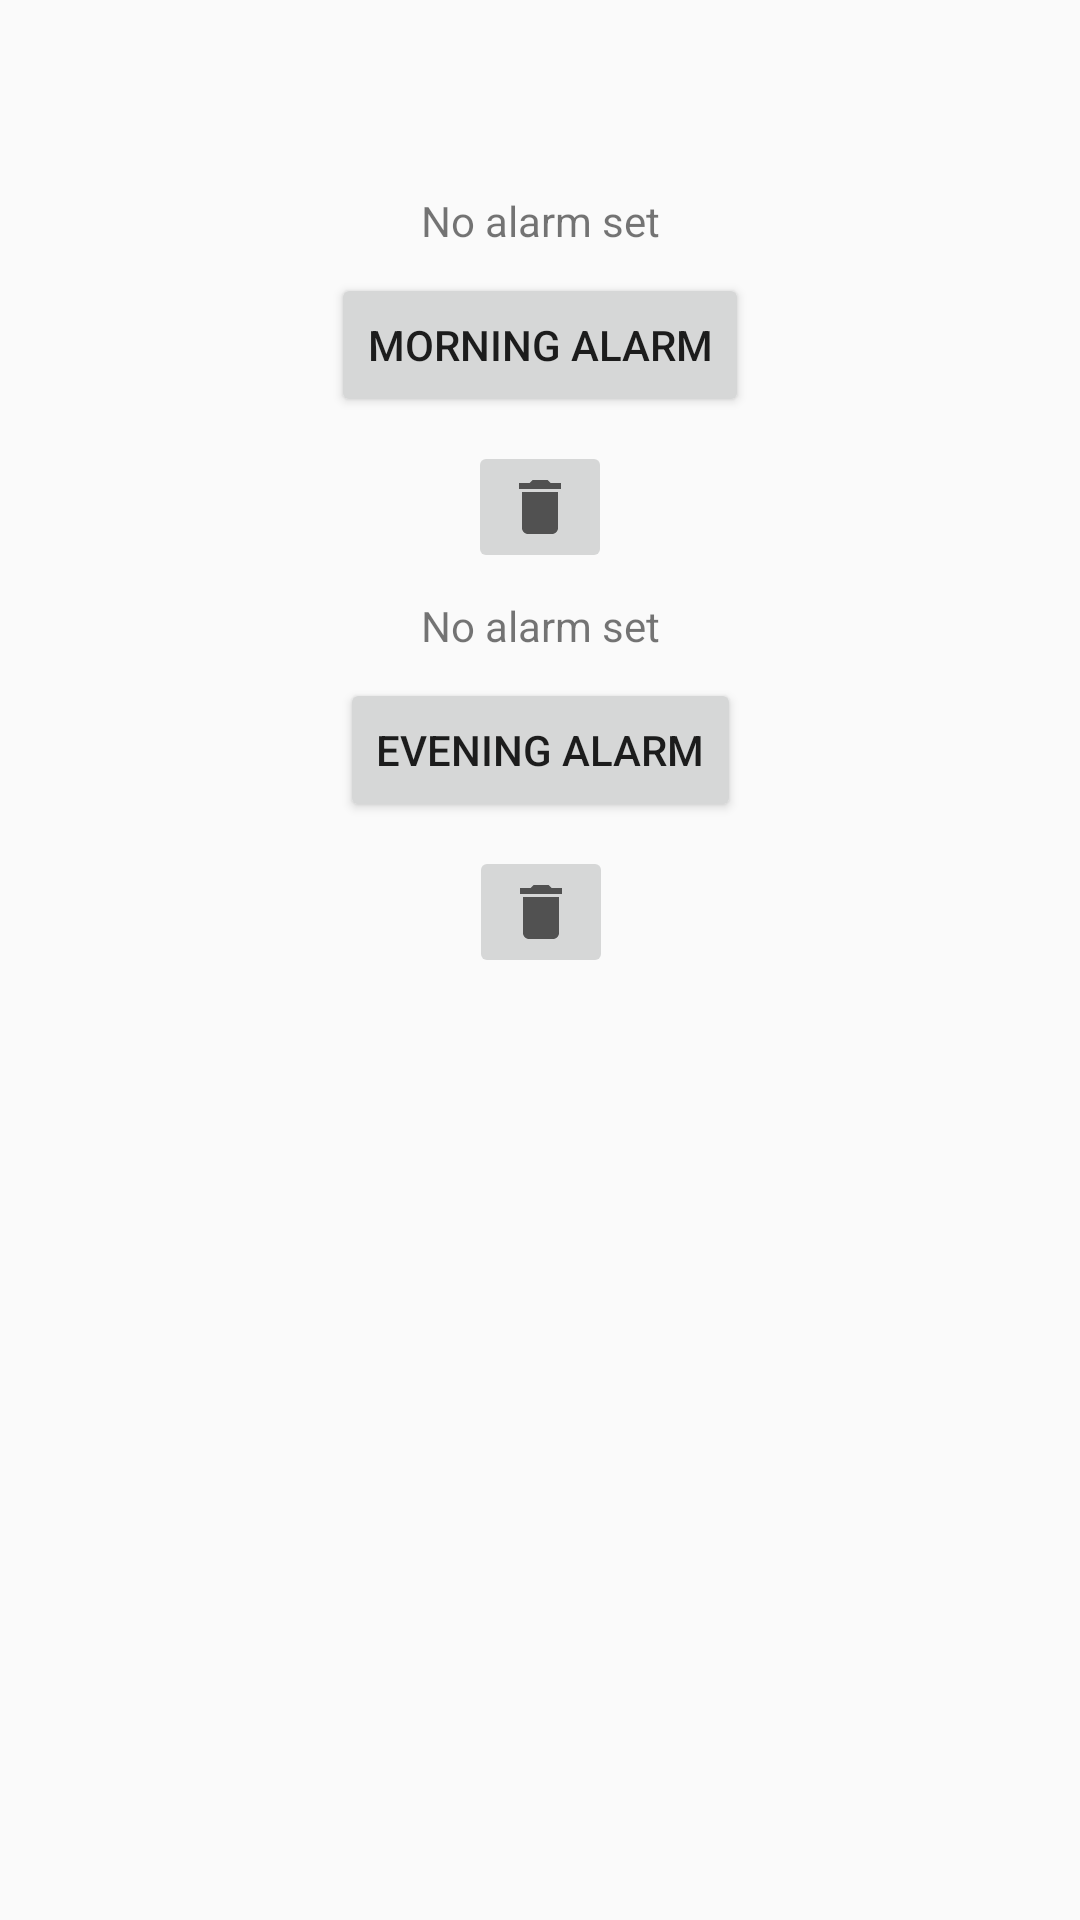

Icon bounding boxes for this 1080 x 1920 phone screenshot, format (x1, y1, x2, y2):
delete: (480, 459, 600, 555), (481, 864, 601, 960)
